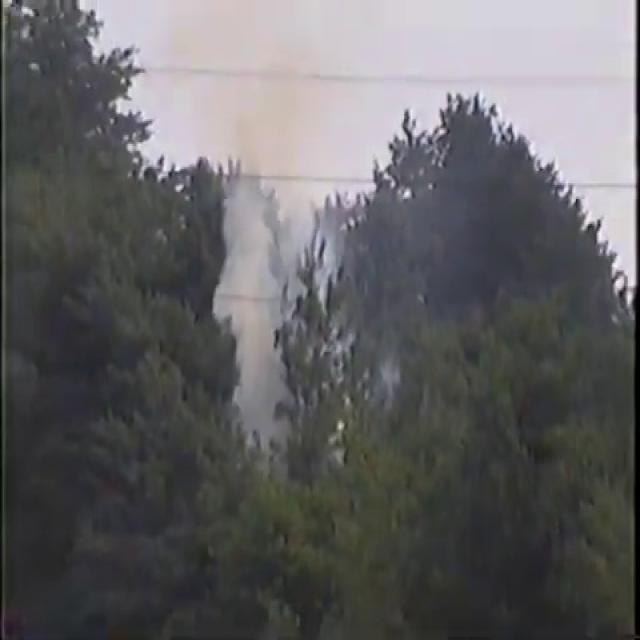Smoke: (208, 30, 378, 450)
